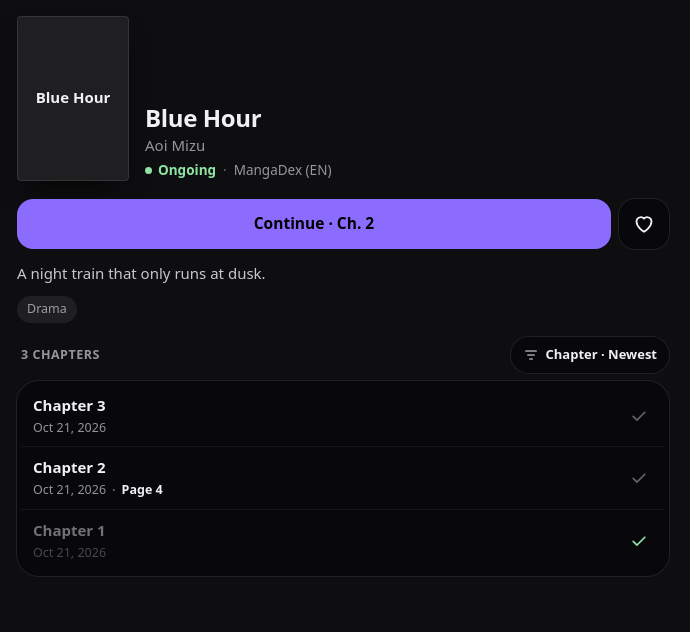
Test case: adds the title to the library
Click the button named "Add to library" at (644, 224), box x1=619 y1=199 x2=669 y2=249
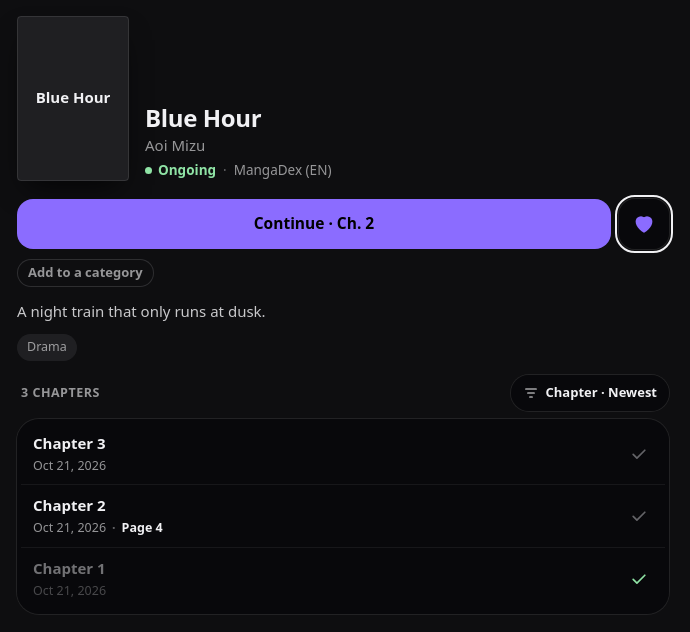
Expected: the button named "In library" is shown, x1=619 y1=199 x2=669 y2=249
